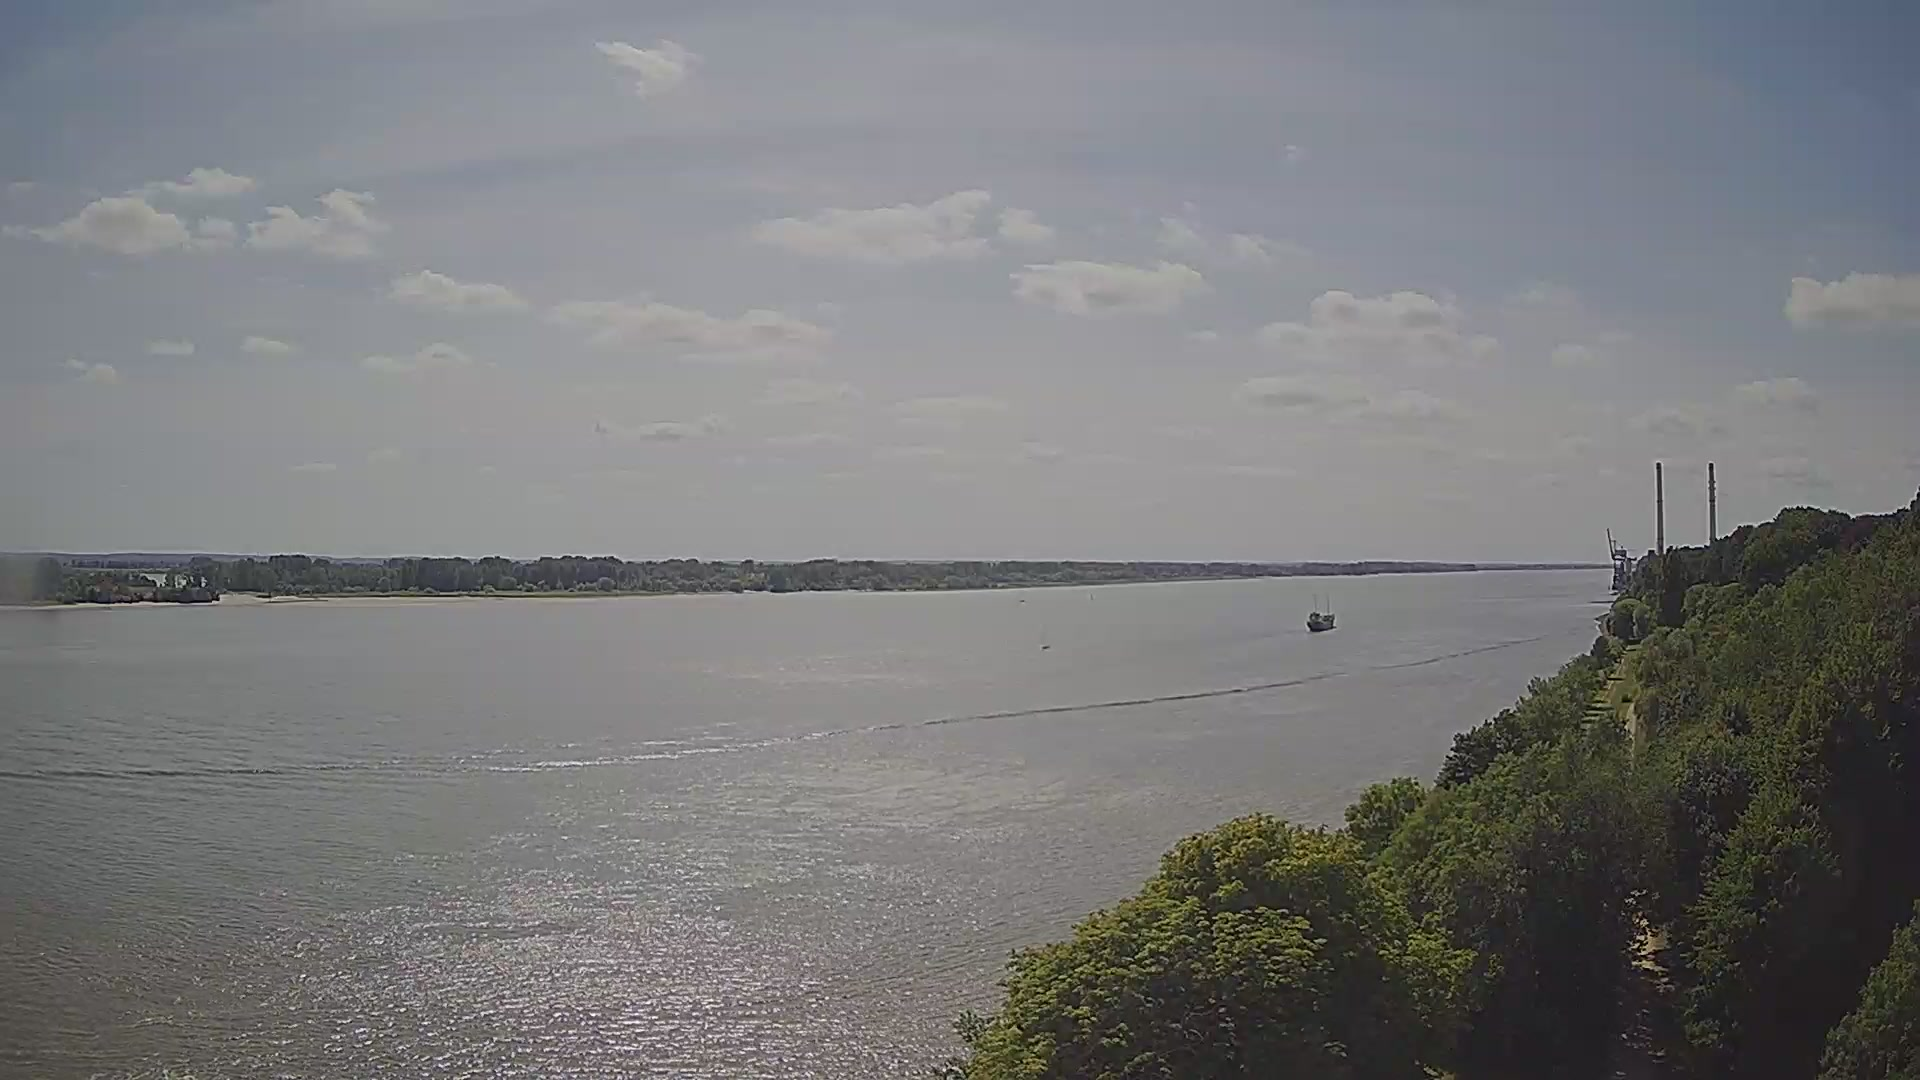sea: (1305, 591, 1335, 632), (1039, 625, 1050, 650), (1091, 593, 1095, 600)
